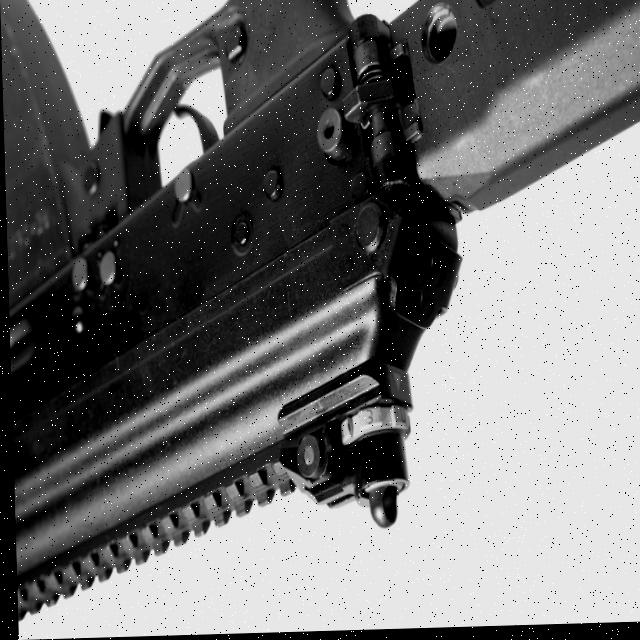firearm: (0, 0, 640, 624)
